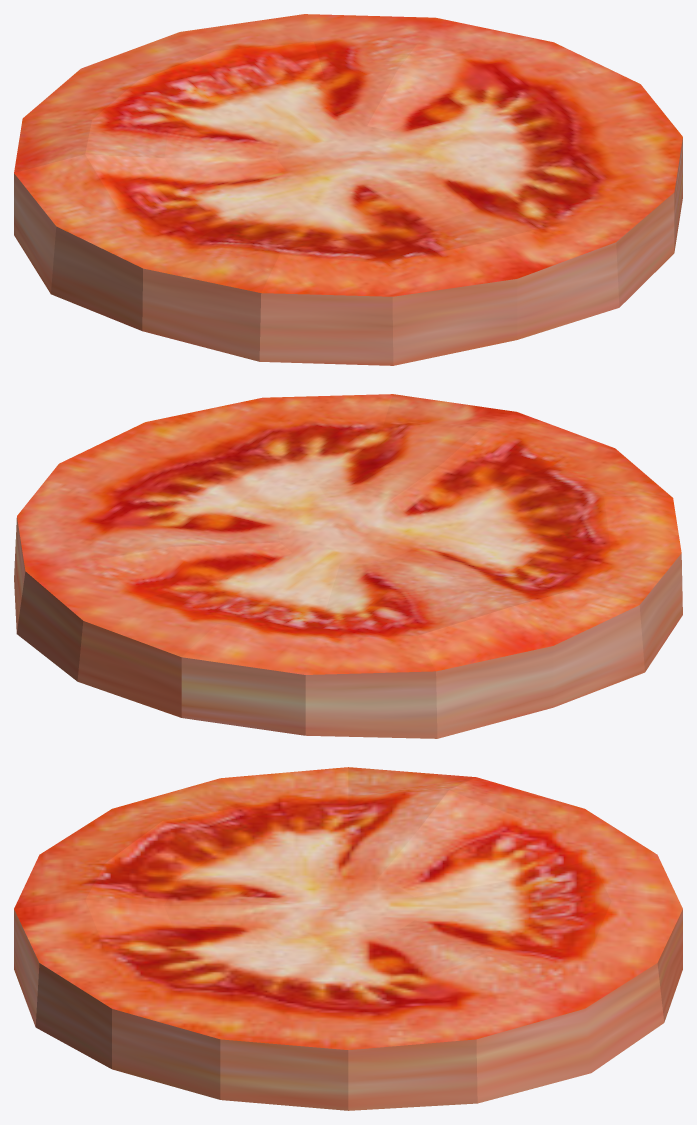
File: tomato slice.fbx
3 views of the same model, one above another, from view 1: azimuth 30°, elevation 25°; view 2: azimuth 150°, elevation 25°; view 3: azimuth 270°, elevation 25° (orthographic).
Parts seen in each view (by area): view 1: Tomato; view 2: Tomato; view 3: Tomato.
Part boxes in pixels (bbox=[...]): Tomato: bbox=[14, 14, 682, 365]; Tomato: bbox=[14, 394, 682, 738]; Tomato: bbox=[14, 767, 682, 1110].
Bounding box in the file's own units: 20.62 × 2.95 × 20.43.
Materials: 1 (1 with a texture image).
